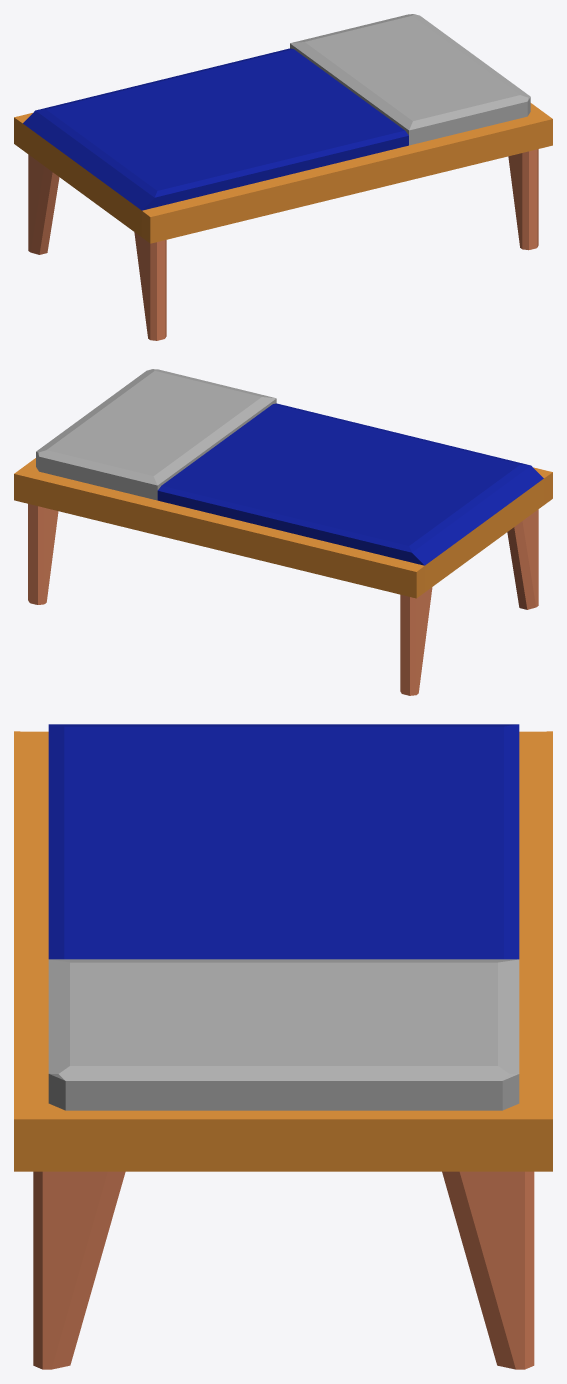
The model's file is Bed.fbx.
The picture shows the model from 3 angles, top to bottom: view 1: azimuth 30°, elevation 25°; view 2: azimuth 150°, elevation 25°; view 3: azimuth 270°, elevation 25°; orthographic projection. The views are drawn at different scales.
Parts seen in each view (by area): view 1: Cube.004, Cube.003, Cube.002, Cube; view 2: Cube.004, Cube, Cube.001, Cube.003; view 3: Cube.004, Cube.001, Cube.002.
Part boxes in pixels (x1,y1,x2,y2): Cube.004: [14, 14, 552, 243]; Cube.003: [134, 232, 166, 340]; Cube.002: [508, 149, 538, 250]; Cube: [28, 154, 59, 254]; Cube.004: [14, 369, 552, 598]; Cube: [400, 587, 432, 695]; Cube.001: [28, 504, 58, 604]; Cube.003: [507, 509, 538, 609]; Cube.004: [14, 724, 552, 1171]; Cube.001: [442, 1171, 534, 1369]; Cube.002: [33, 1171, 125, 1369].
Size of the model in its own units: 978 by 344 by 574.
